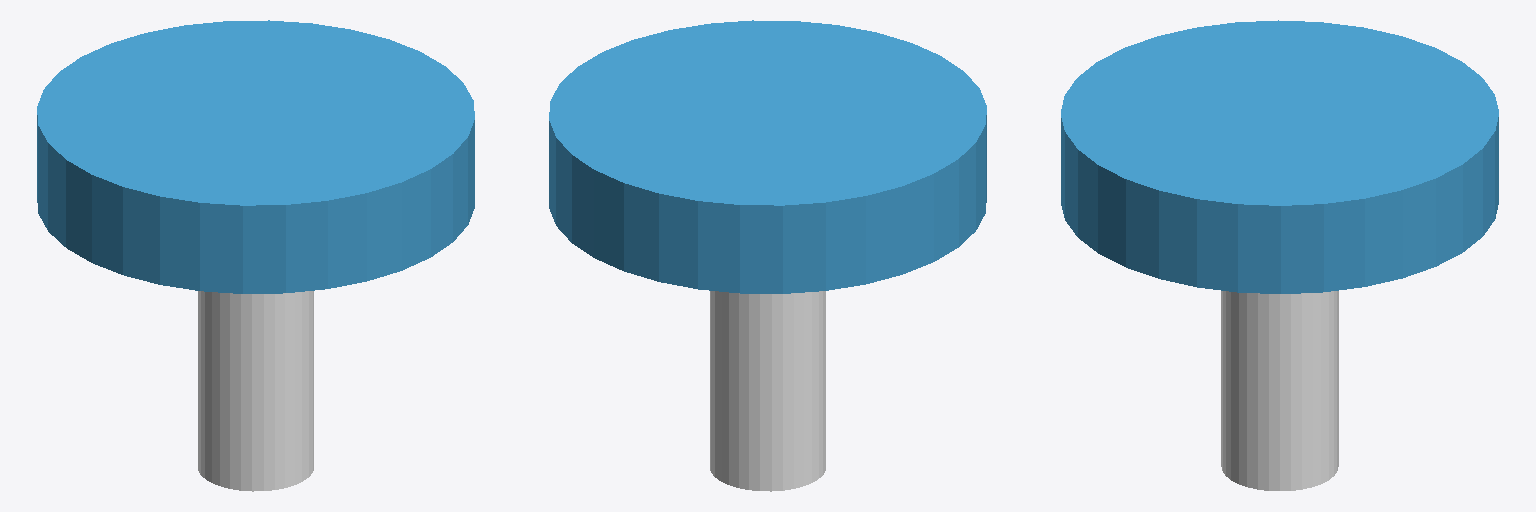
The robot description file, URDF, robot "robotiq_epick_model":
<?xml version="1.0" ?>
<!-- =================================================================================== -->
<!-- |    This document was autogenerated by xacro from robotiq_epick_model.xacro      | -->
<!-- |    EDITING THIS FILE BY HAND IS NOT RECOMMENDED                                 | -->
<!-- =================================================================================== -->
<robot name="robotiq_epick_model">
  <link name="epick">
    <inertial>
      <mass value="0.745"/>
      <origin rpy="0 0 0" xyz="0 0.0 0.055"/>
      <inertia ixx="0.003084" ixy="0.0" ixz="0.0" iyy="0.002999" iyz="0.0" izz="0.000546"/>
    </inertial>
    <visual>
      <origin rpy="0 0 0" xyz="0 0 0.095"/>
      <geometry>
        <mesh filename="package://robotiq_epick_visualization/meshes/visual/robotiq_epick.dae" scale="0.001 0.001 0.001"/>
      </geometry>
      <material name="">
        <color rgba="1 1 1 1"/>
      </material>
    </visual>
    <visual>
      <origin rpy="0 0 0" xyz="0 0 0.11"/>
      <geometry>
        <cylinder length="0.03" radius="0.006"/>
      </geometry>
      <material name="">
        <color rgba="1 1 1 1"/>
      </material>
    </visual>
    <collision>
      <!-- -0.095 + 0.102/2 = -0.044-->
      <origin rpy="0 0 0" xyz="0 0 0.065"/>
      <geometry>
        <cylinder length="0.13" radius="0.044"/>
      </geometry>
    </collision>
    <!--       <collision>        
        <origin xyz="0 0 ${0.008+0.095}" rpy="0 0 0"/>
        <geometry>          
          <cylinder radius="0.006" length="0.016"/>
        </geometry>
        <material name="">
          <color rgba="1 1 1 1"/>
        </material>        
      </collision>  -->
  </link>
  <joint name="$hand__end_effector_joint" type="fixed">
    <parent link="epick"/>
    <child link="epick_end_effector"/>
    <origin rpy="0 0 0" xyz="0 0 0.13"/>
  </joint>
  <link name="epick_end_effector">
    <gravity>0</gravity>
    <visual>
      <origin rpy="0 0 0.005" xyz="0 0 0"/>
      <geometry>
        <cylinder length="0.01" radius="0.0225"/>
      </geometry>
      <!-- <material name="transparent">
          <color rgba="0 0 0 0"/>
        </material> -->
    </visual>
    <inertial>
      <origin rpy="0 0 0" xyz="0 0 0"/>
      <mass value="0.0001"/>
      <inertia ixx="1e-08" ixy="0" ixz="0" iyy="1e-08" iyz="0" izz="1e-08"/>
    </inertial>
  </link>
  <!-- http://docs.ros.org/melodic/api/gazebo_plugins/html/group__GazeboRosVacuumGripper.html -->
  <gazebo>
    <plugin filename="libgazebo_ros_vacuum_gripper.so" name="gazebo_ros_vacuum_gripper">
      <robotNamespace>robotiq/epick</robotNamespace>
      <bodyName>epick_end_effector</bodyName>
      <topicName>grasping</topicName>
      <maxForce>20</maxForce>
      <maxDistance>0.03</maxDistance>
      <minDistance>0.01</minDistance>
    </plugin>
  </gazebo>
</robot>

--- Render facts (derived) ---
The picture shows the robot from 3 angles, left to right: view 1: azimuth 30°, elevation 25°; view 2: azimuth 150°, elevation 25°; view 3: azimuth 270°, elevation 25°; orthographic projection.
Model robotiq_epick_model with 2 links and 1 joints (1 fixed), rooted at epick, posed every joint at zero.
Links seen in each view (by area): view 1: epick_end_effector, epick; view 2: epick_end_effector, epick; view 3: epick_end_effector, epick.
Link boxes in pixels (x1,y1,x2,y2): epick_end_effector: (37, 20, 474, 293); epick: (198, 291, 313, 491); epick_end_effector: (549, 20, 986, 293); epick: (710, 291, 825, 491); epick_end_effector: (1061, 20, 1498, 293); epick: (1221, 291, 1338, 490).
Bounding box of the posed robot: 0.045 × 0.045 × 0.04 m (x, y, z).
0 mesh visuals loaded from 1 distinct referenced files (none loaded); not drawn: 1 (reference not matched to a file when rendering).